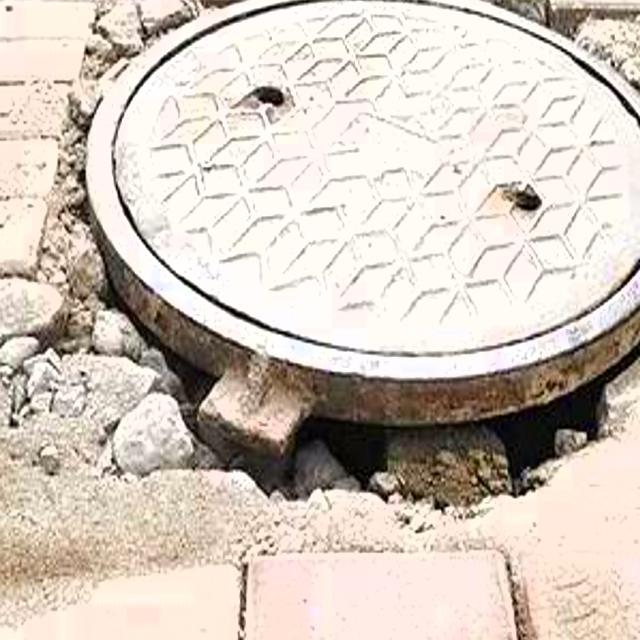circle: (0, 0, 640, 628)
